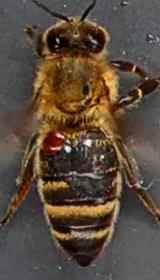varroa_mite: (36, 126, 69, 158)
